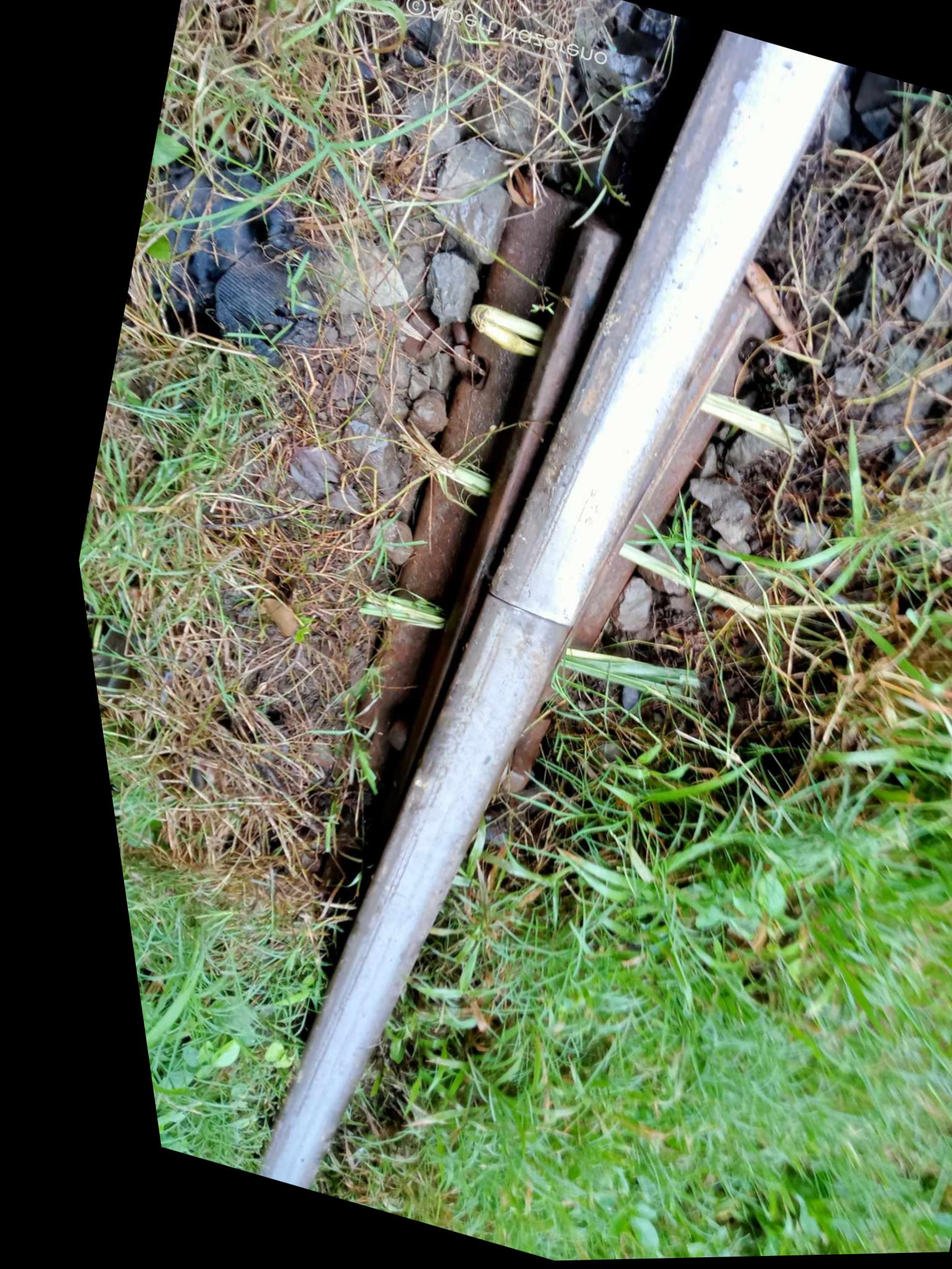person: (375, 488, 646, 738)
